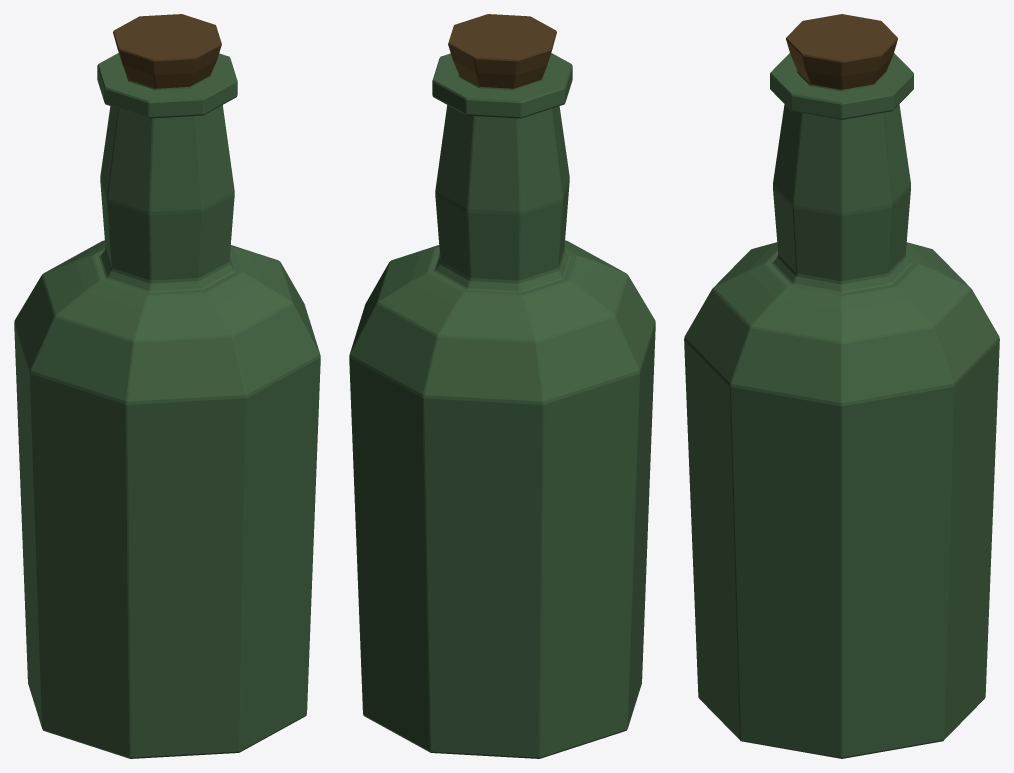
The model's file is LP_BottleRoundLong.fbx.
3 views of the same model, side by side, from view 1: azimuth 30°, elevation 25°; view 2: azimuth 150°, elevation 25°; view 3: azimuth 270°, elevation 25° (orthographic).
Visible parts, largest first — view 1: LP_BottleRoundLong; view 2: LP_BottleRoundLong; view 3: LP_BottleRoundLong.
Part boxes in pixels (<box>): LP_BottleRoundLong: <box>14,14,320,758</box>; LP_BottleRoundLong: <box>349,14,655,758</box>; LP_BottleRoundLong: <box>684,14,999,758</box>.
Bounding box in the file's own units: 32.91 × 76.01 × 32.91.
